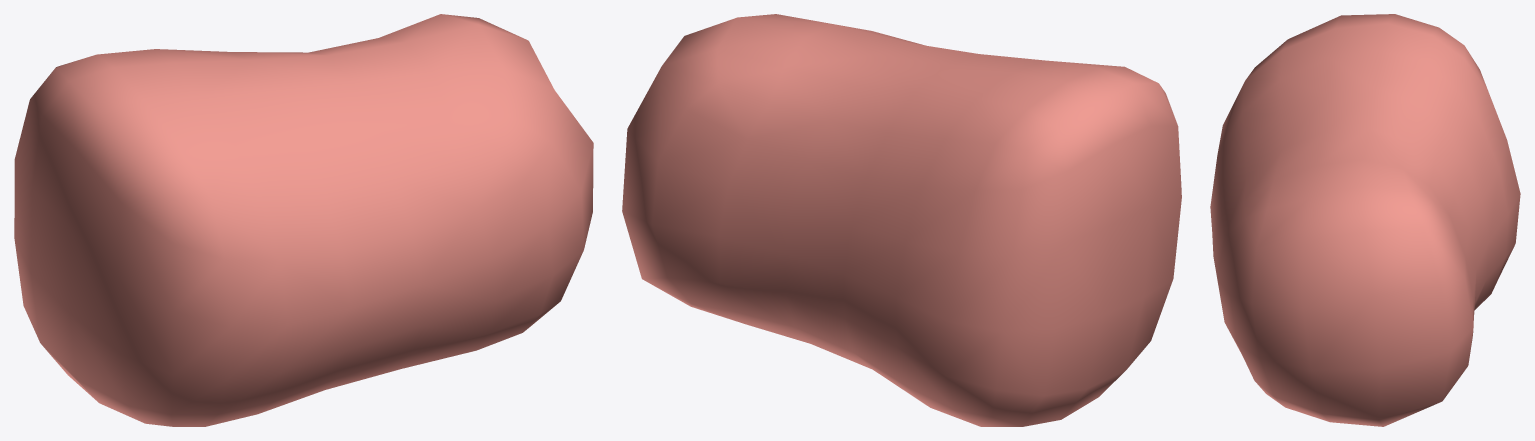
Rendered from mixamo_humanoid_surface_leftHandIndex1.fbx.
The picture shows the model from 3 angles, left to right: view 1: azimuth 30°, elevation 25°; view 2: azimuth 150°, elevation 25°; view 3: azimuth 270°, elevation 25°; orthographic projection. The views are drawn at different scales.
Parts seen in each view (by area): view 1: surface_LeftHandIndex1; view 2: surface_LeftHandIndex1; view 3: surface_LeftHandIndex1.
Part boxes in pixels (<box>): surface_LeftHandIndex1: <box>14,14,593,426</box>; surface_LeftHandIndex1: <box>622,14,1181,426</box>; surface_LeftHandIndex1: <box>1210,14,1520,426</box>.
Size of the model in its own units: 3.57 by 2.27 by 2.33.
